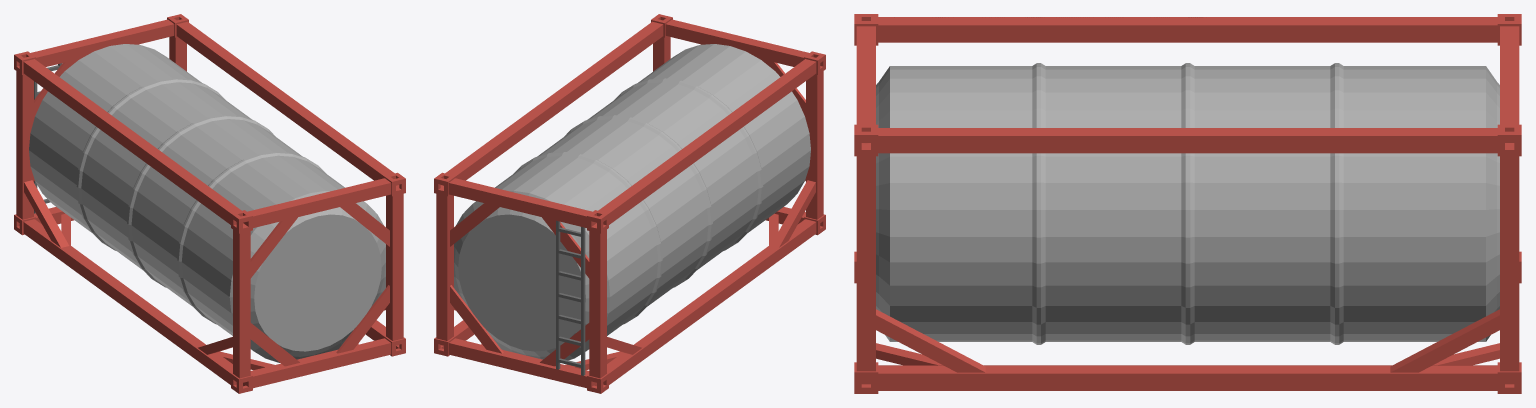
Rendered from ISOTank.obj.
The picture shows the model from 3 angles, left to right: view 1: azimuth 30°, elevation 25°; view 2: azimuth 150°, elevation 25°; view 3: azimuth 270°, elevation 25°; orthographic projection. The views are drawn at different scales.
Visible parts, largest first — view 1: hasigo; view 2: hasigo; view 3: hasigo.
Boxes of the visible parts, x1,y1,x2,y2 form: hasigo: (14,14,405,393); hasigo: (434,14,825,393); hasigo: (854,14,1521,393).
Bounding box in the file's own units: 6 × 6 × 14.
1 material, 1 textured.
